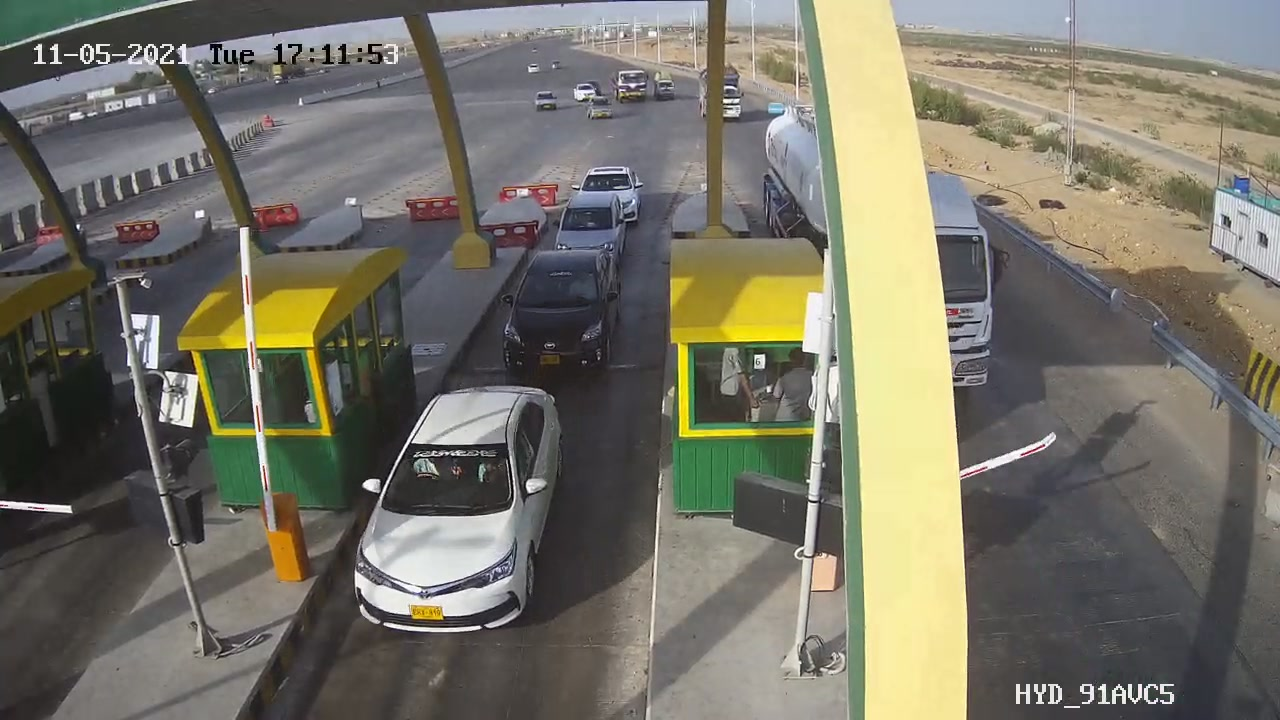F1: (333, 368, 582, 656), (482, 243, 637, 385)
